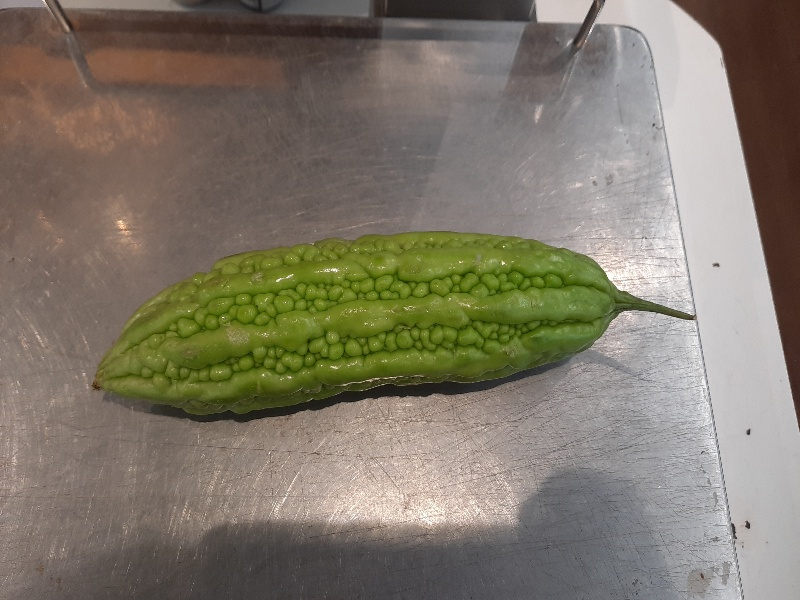vege: (90, 232, 695, 423)
